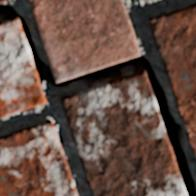brick: (61, 71, 185, 195), (29, 0, 139, 80), (149, 4, 195, 129), (0, 121, 77, 195), (0, 19, 45, 117), (186, 130, 195, 156)
crack: (0, 2, 195, 195)
